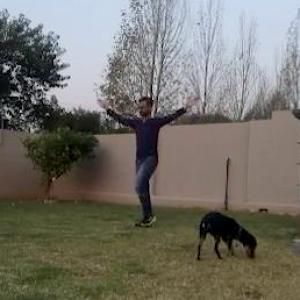takeoff: (112, 90, 240, 236)
